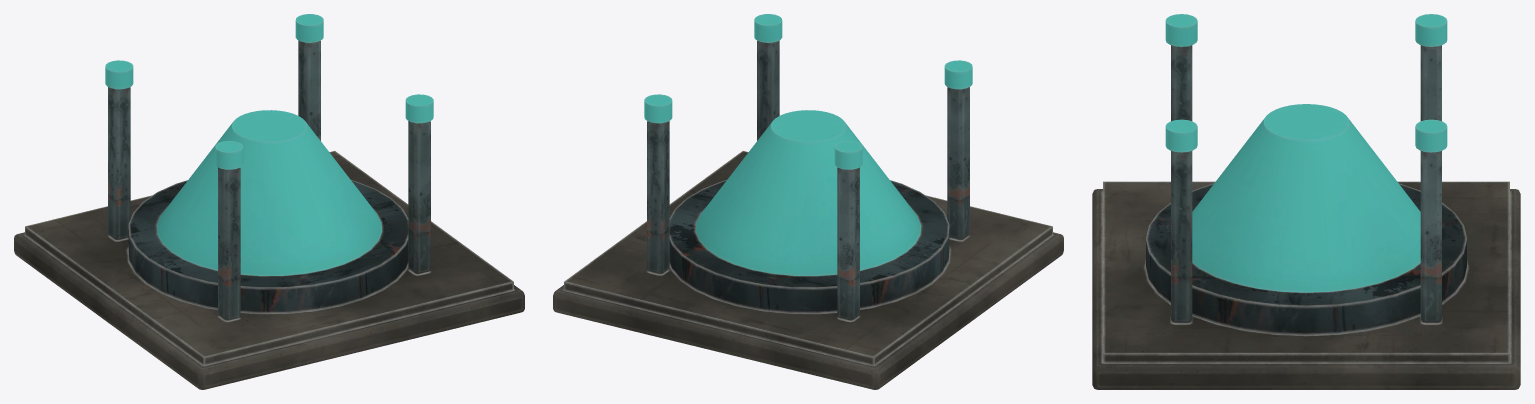
Rendered from shield_generator.glb.
3 renders of one model, left to right at view 1: azimuth 30°, elevation 25°; view 2: azimuth 150°, elevation 25°; view 3: azimuth 270°, elevation 25°, orthographic. The views are drawn at different scales.
Visible parts, largest first — view 1: te_shield_generator; view 2: te_shield_generator; view 3: te_shield_generator.
Part boxes in pixels (<box>): te_shield_generator: <box>14,14,524,389</box>; te_shield_generator: <box>553,14,1063,389</box>; te_shield_generator: <box>1092,14,1520,389</box>.
Size of the model in its own units: 0.8 by 0.47 by 0.8.
1 material, 1 textured.
